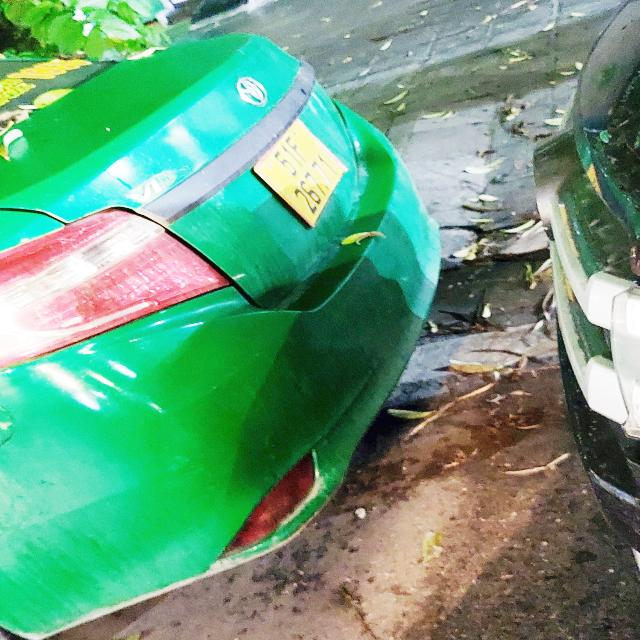license_plate: (255, 119, 360, 234)
